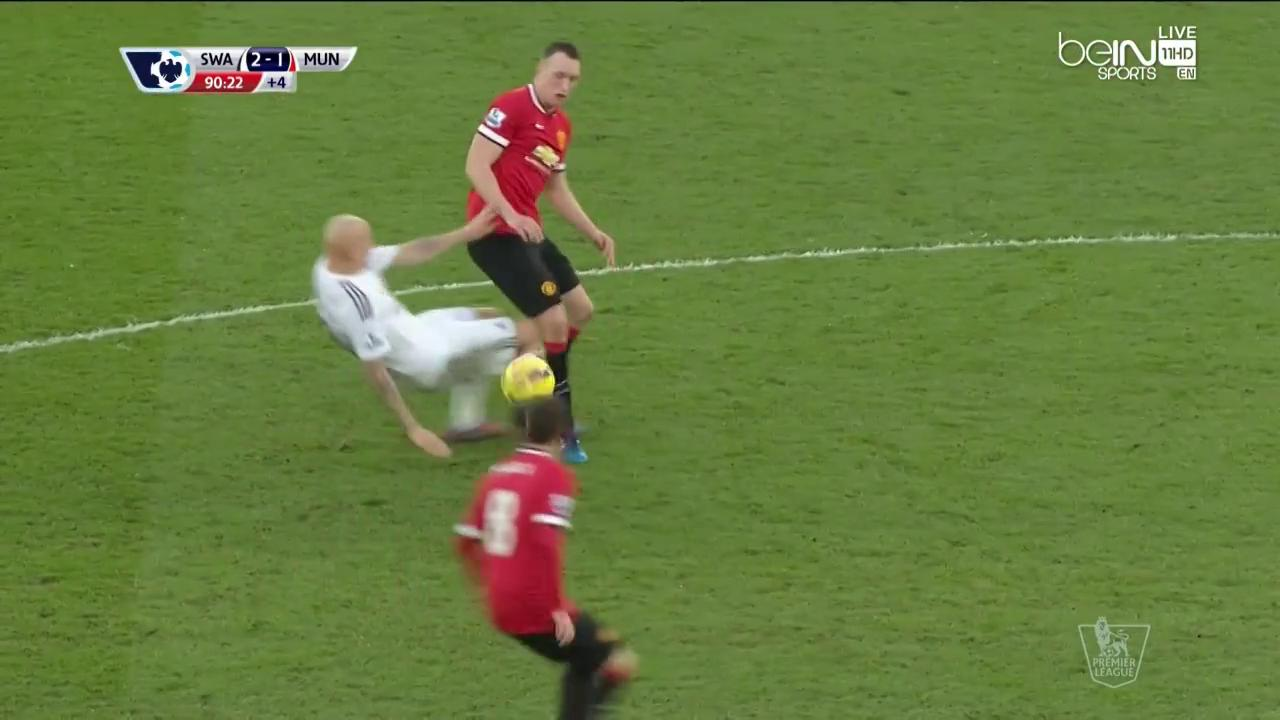football: (499, 353, 556, 410)
